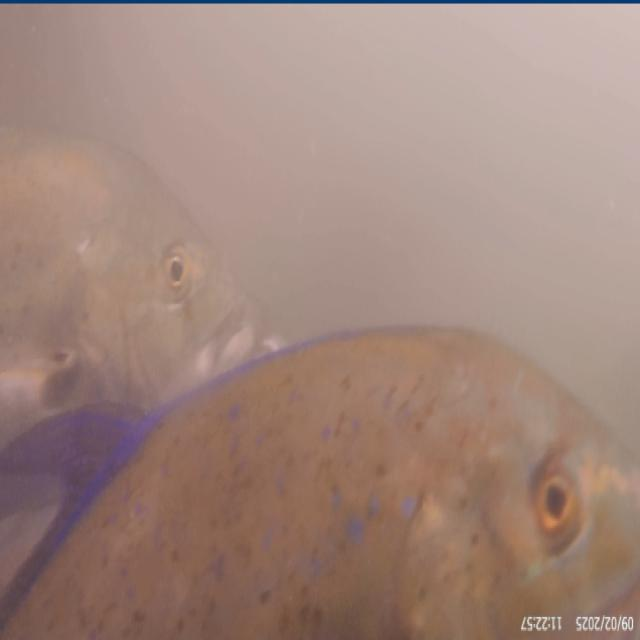ikan: (29, 324, 628, 625), (15, 76, 288, 383)
